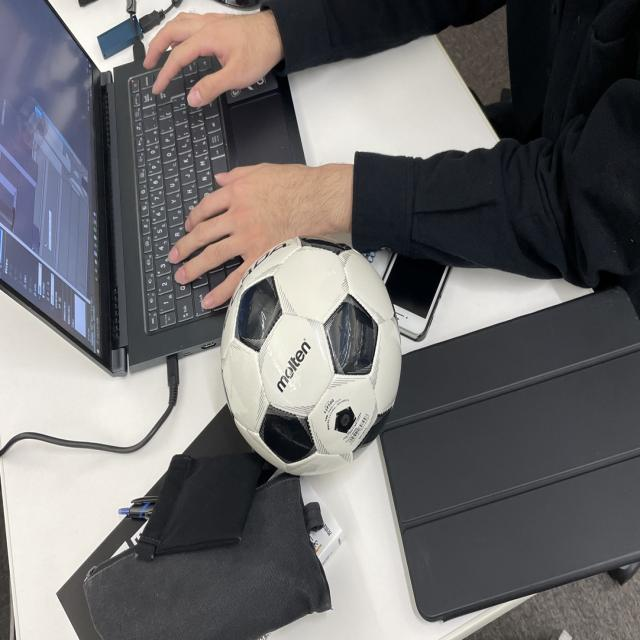ball: (220, 235, 403, 473)
